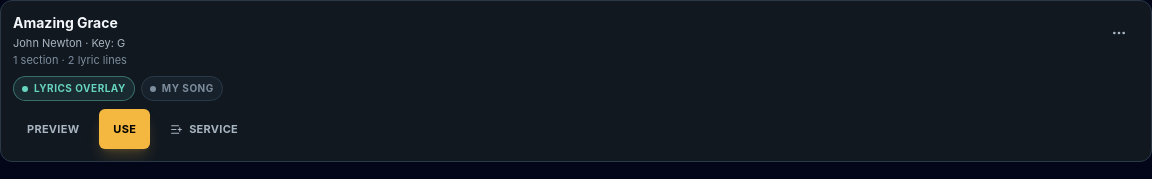
Test: SongCard › More menu closes after selecting an item
Click the button named "More actions" at [1119, 33], box [1099,13,1139,53]
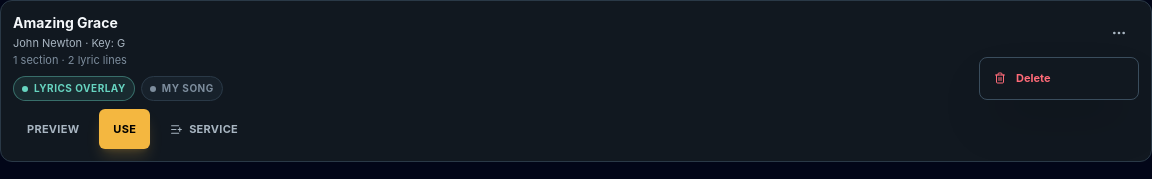
Click the menu item "Delete" at [1059, 78], box [984,62,1134,94]
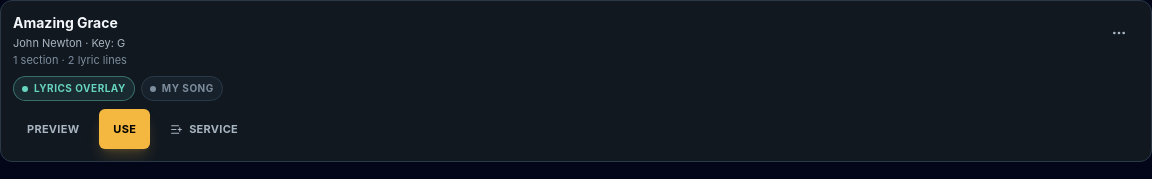
Check: the menu item is gone
